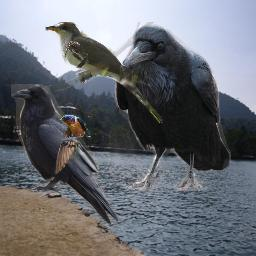Crow: (114, 24, 231, 191), (11, 84, 120, 227)
Cuckoo: (45, 22, 163, 123)
Swallow: (54, 114, 92, 174)
